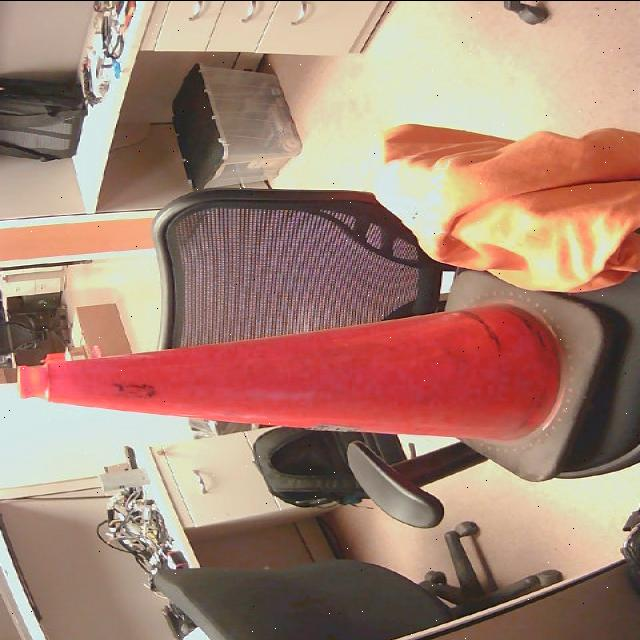traffic cone: (18, 303, 566, 444)
